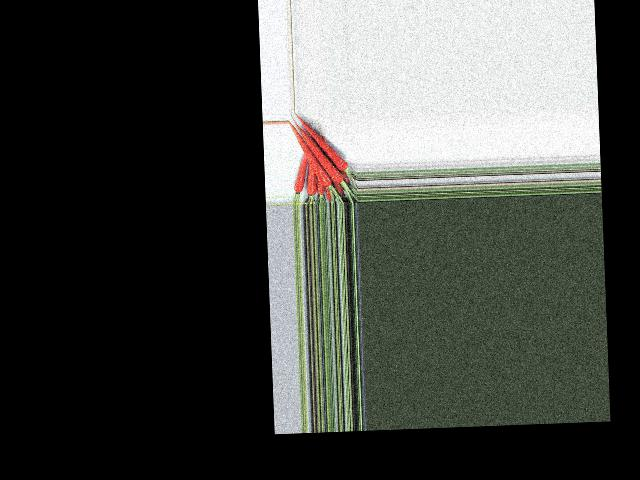carrot: (290, 152, 310, 194)
